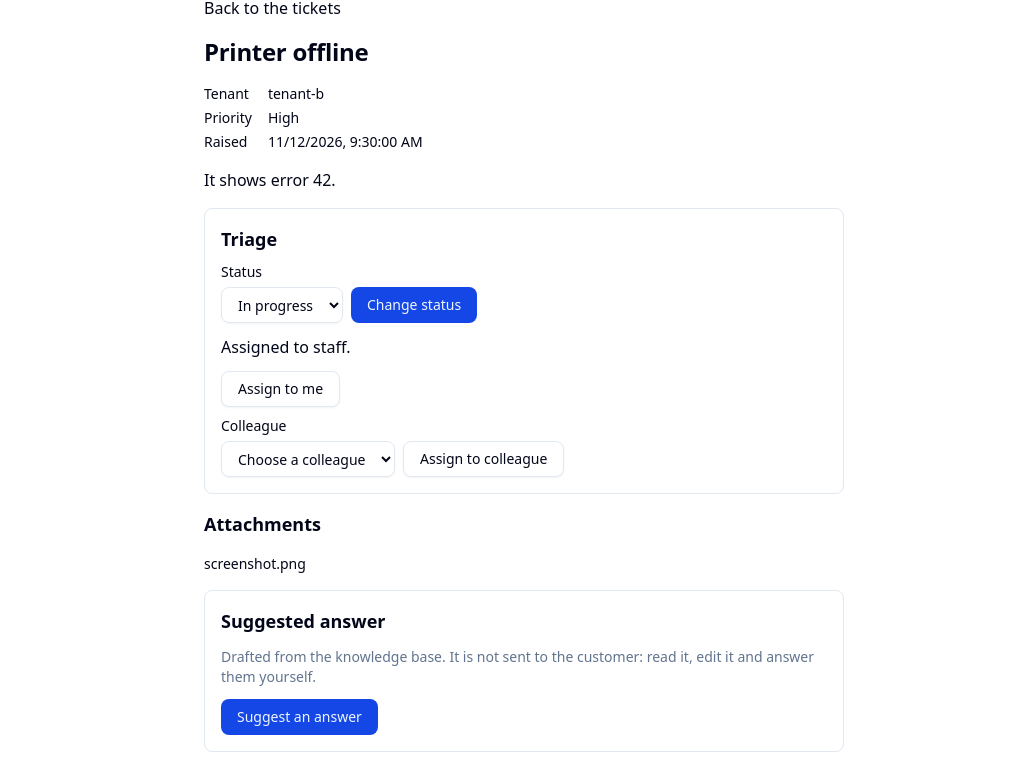
Scenario: opening another ticket leaves the previous ticket’s draft and sources behind
(page scrolled)
What coordinates should you click on to do the following:
click the button "Suggest an answer"
I would click on:
 (299, 717)
Its box is [221, 699, 378, 735].
(page scrolled)
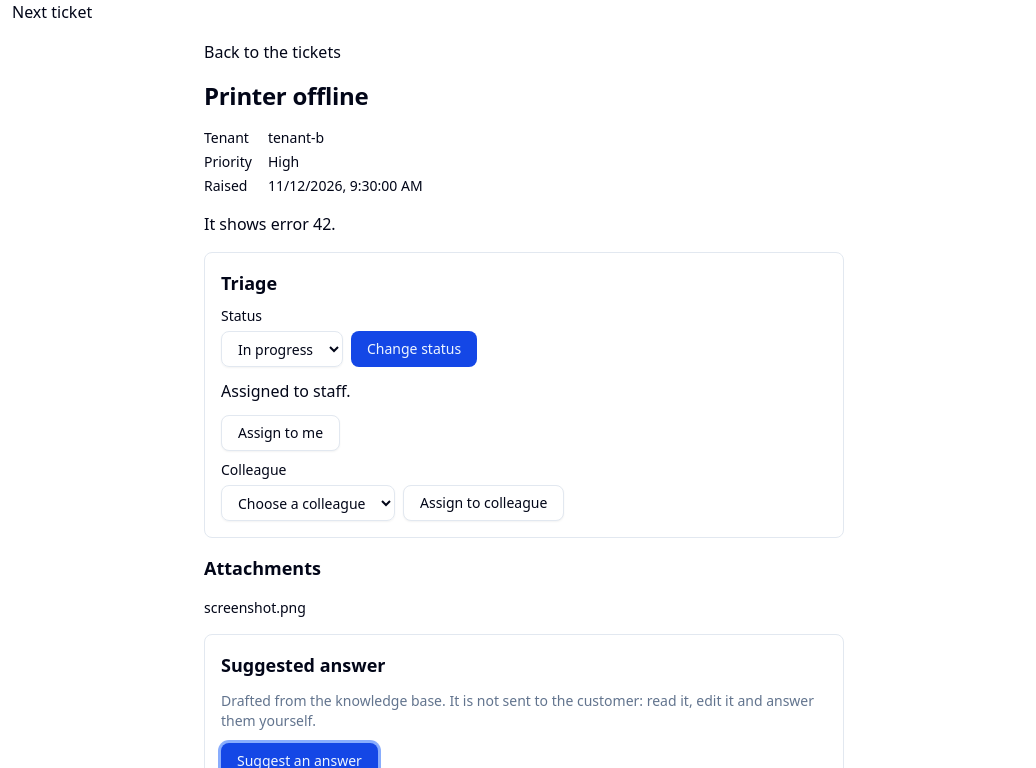
What coordinates should you click on to do the following:
click the link "Next ticket"
I would click on:
 (52, 12)
Its box is [12, 1, 92, 23].
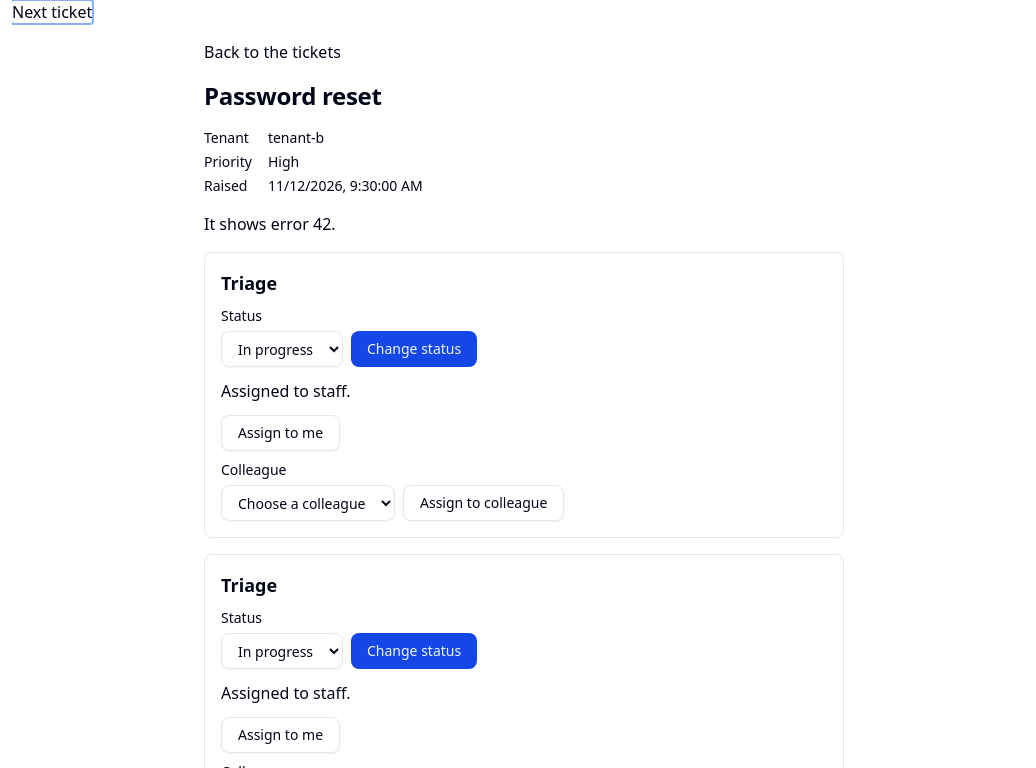
Now the heading "Password reset" is shown, box [204, 79, 382, 112]
